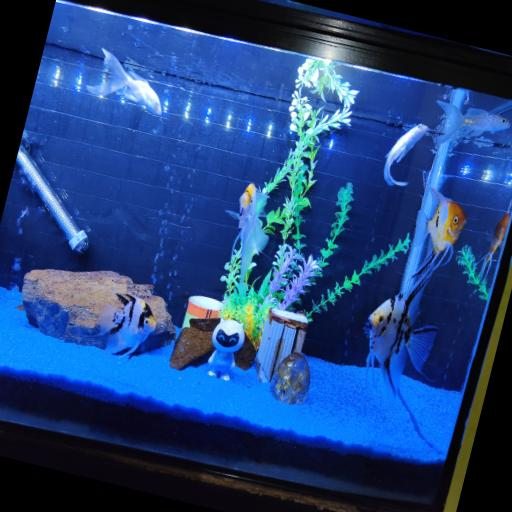Fish: (364, 271, 437, 404), (413, 173, 465, 275), (86, 49, 160, 115), (225, 184, 268, 294), (99, 293, 155, 357), (436, 100, 509, 143), (477, 201, 511, 287), (383, 124, 426, 186)
